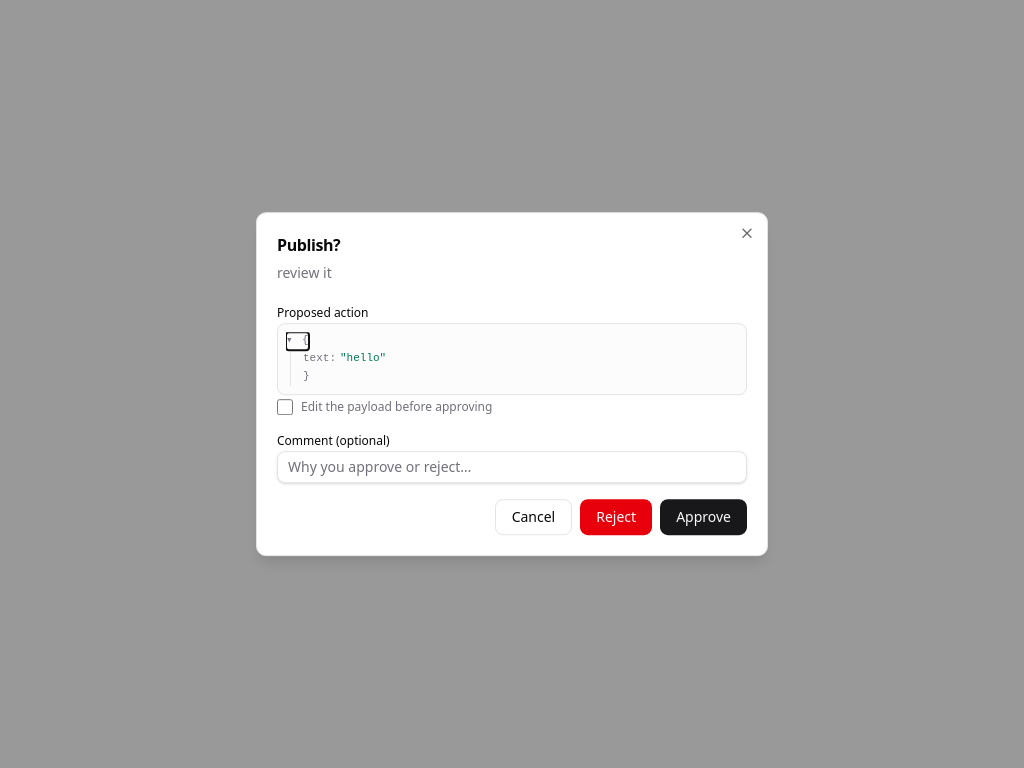
Test case: DecisionDialog › recovers from a 409 by showing the decided-elsewhere state (DoD-2)
Click the button with test id "decision-approve".
click(704, 517)  # box [660,499,747,535]
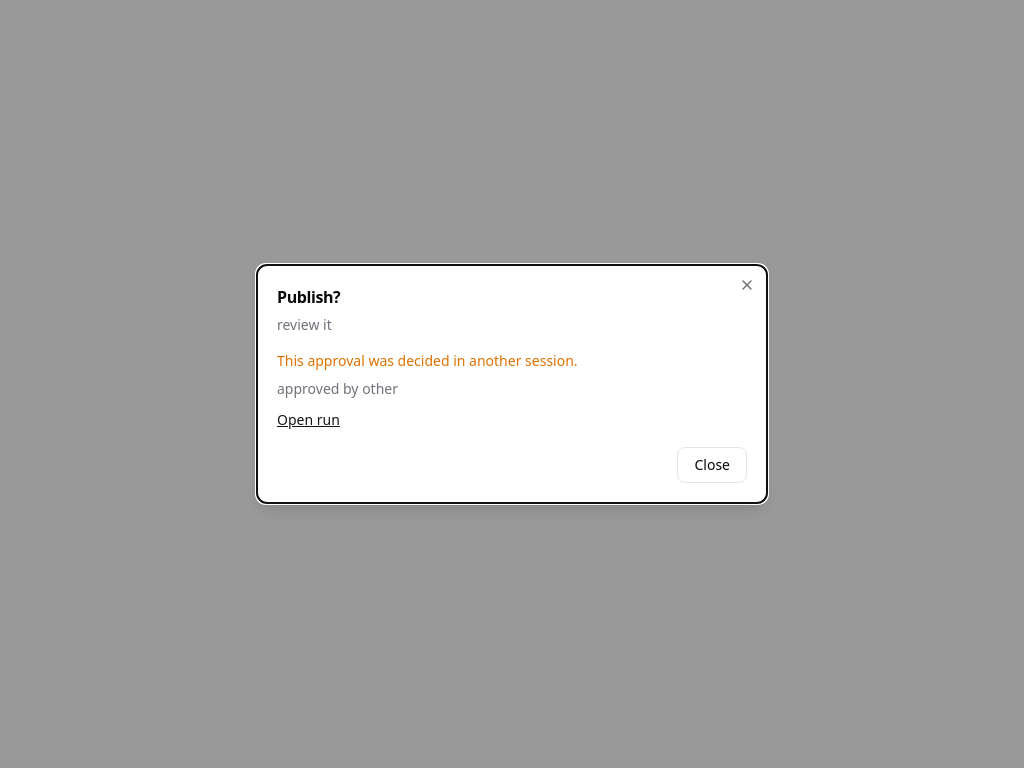
Now the element with test id "decision-conflict" is shown, box [277,351,578,429]
Now the element with test id "decision-conflict" shows "another session", box [277,351,578,370]
